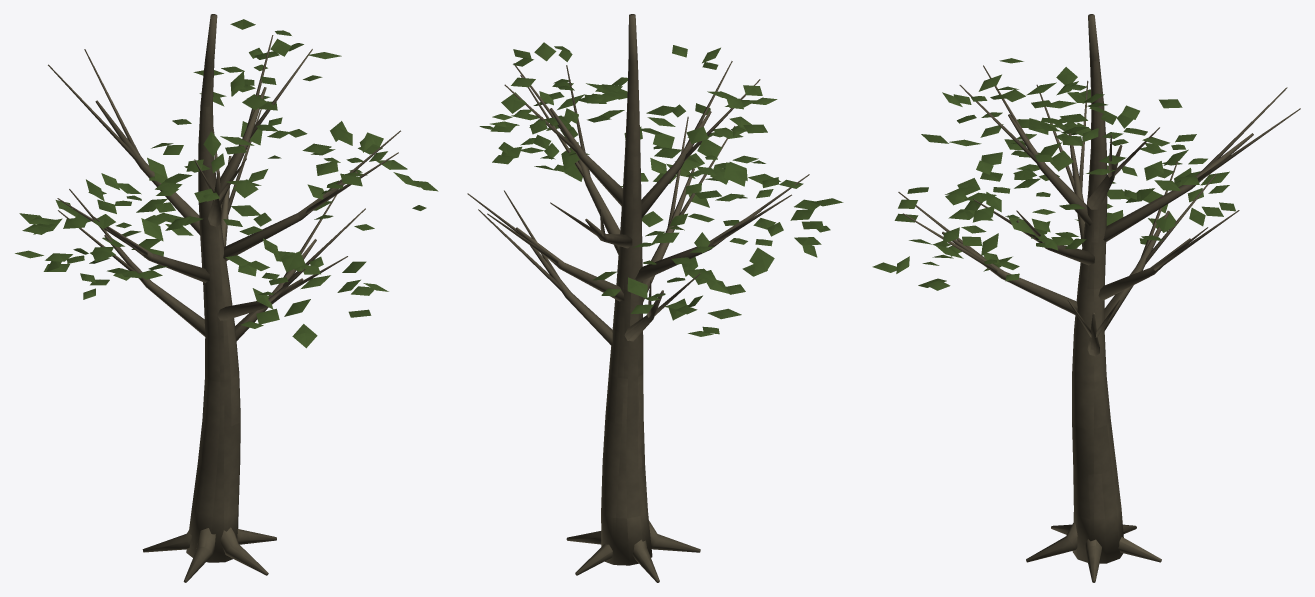
Rendered from veg_tree_sparse.glb.
The picture shows the model from 3 angles, left to right: view 1: azimuth 30°, elevation 25°; view 2: azimuth 150°, elevation 25°; view 3: azimuth 270°, elevation 25°; orthographic projection.
Parts seen in each view (by area): view 1: trunk_and_branches, foliage; view 2: trunk_and_branches, foliage; view 3: trunk_and_branches, foliage.
Boxes of the visible parts, x1,y1,x2,y2 form: trunk_and_branches: [48, 14, 400, 582]; foliage: [15, 19, 438, 348]; trunk_and_branches: [467, 14, 809, 582]; foliage: [479, 42, 843, 336]; trunk_and_branches: [898, 14, 1300, 582]; foliage: [872, 58, 1235, 290].
Bounding box in the file's own units: 4.2 × 6.02 × 4.36.
2 materials, 2 textured.
